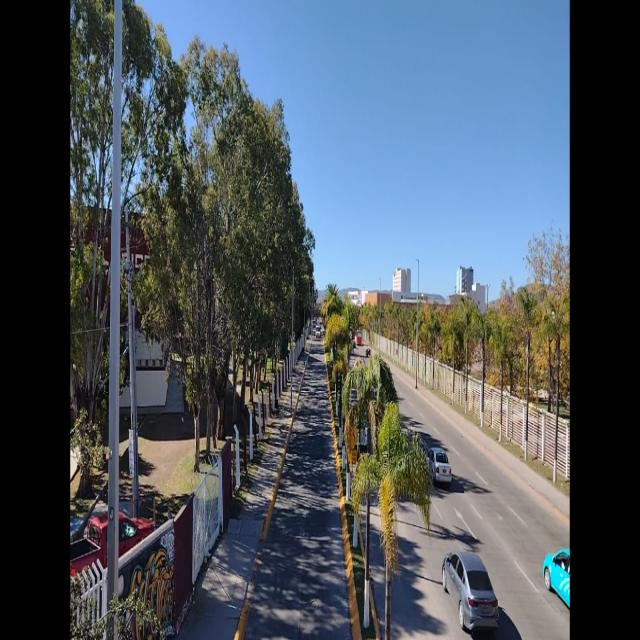Auto: (442, 547, 501, 636), (542, 536, 572, 615), (424, 438, 452, 487)
